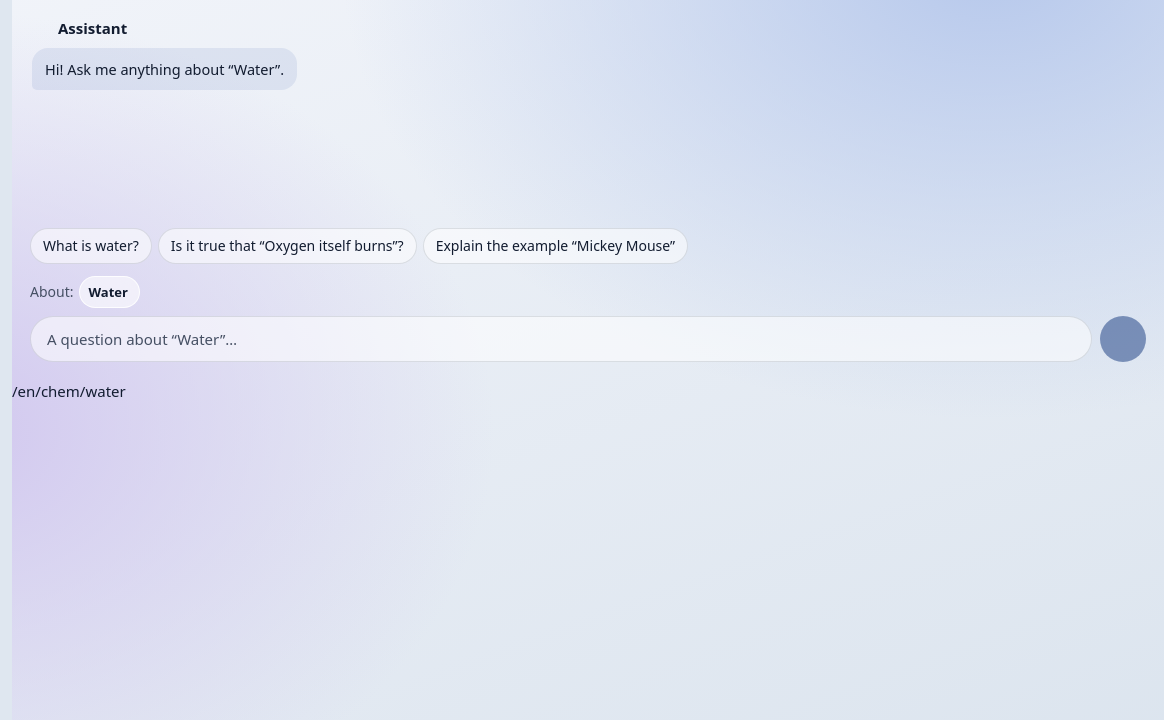
it: AssistantPanel (W-32) › an off-topic answer offers questions that lead back to the topic
Type "Who won the football match?" into the field named "Question for the assistant" at (561, 339), box [30, 316, 1092, 362]
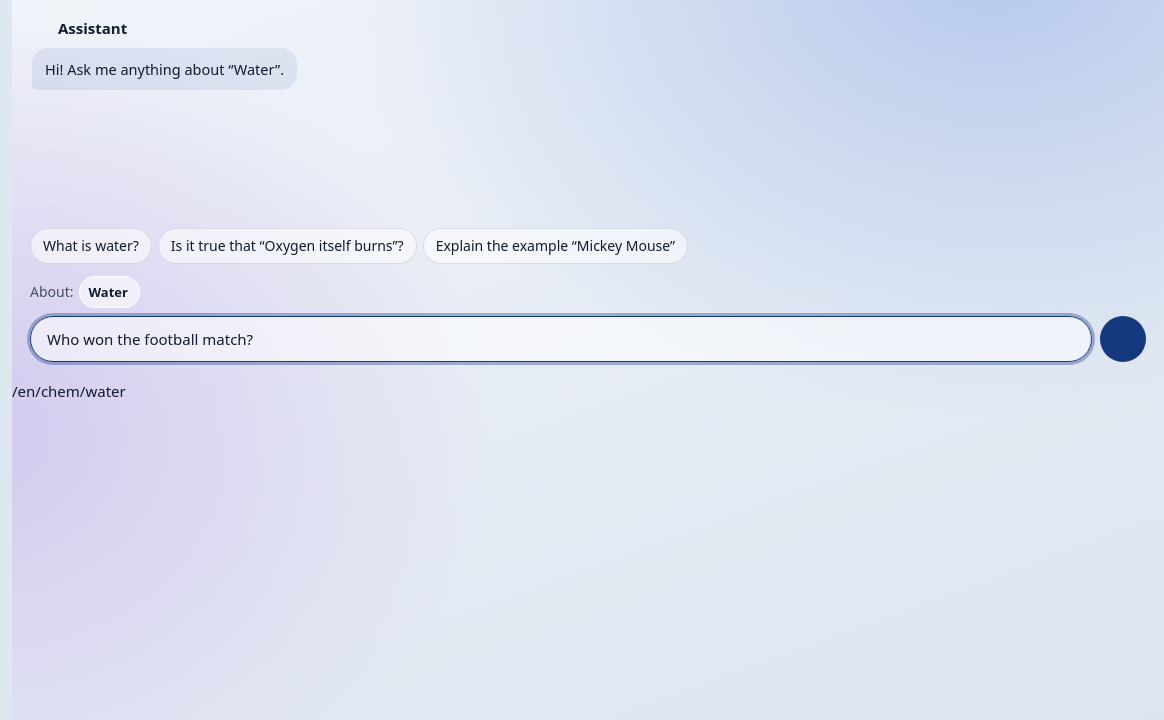
Click the button named "Send" at (1123, 339), box [1100, 316, 1146, 362]
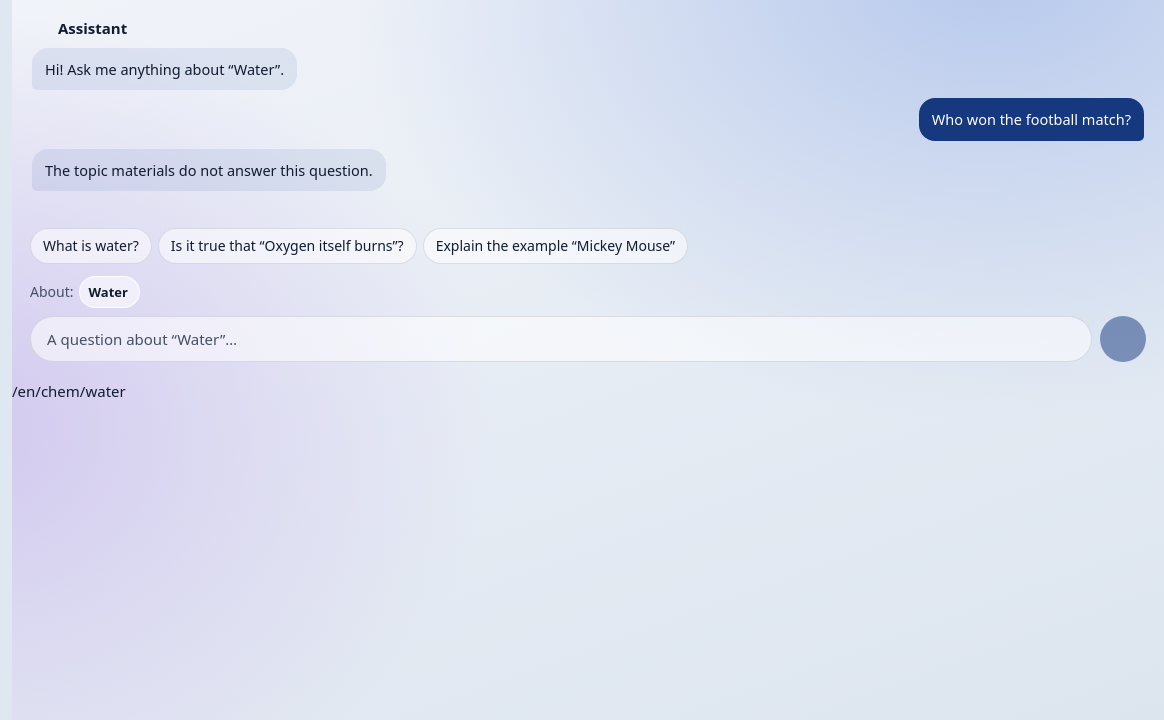
Expected: the button "What is water?" is shown, [30, 228, 152, 264]
Expected: the text "The topic materials do not answer this question." is shown, [32, 149, 386, 191]
